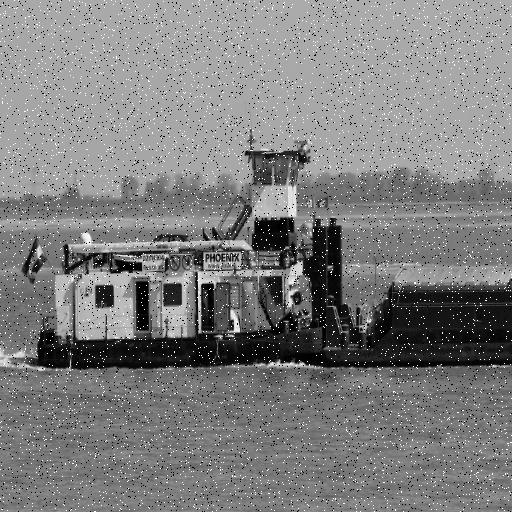tugboat: (21, 124, 350, 373)
